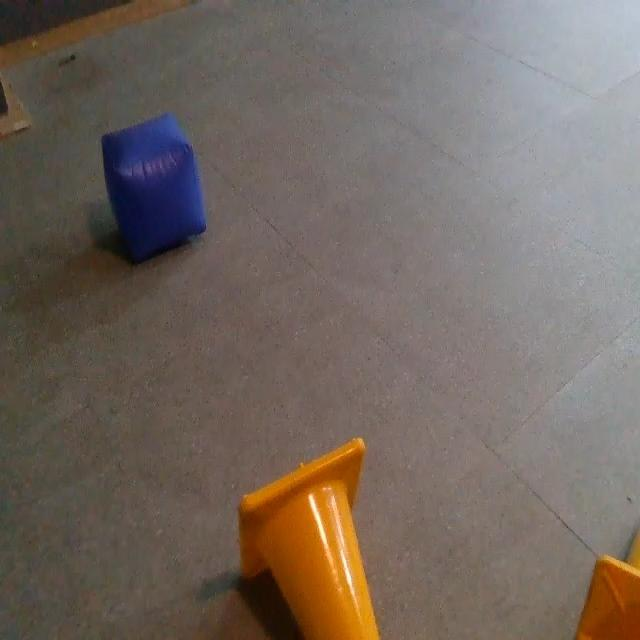cone: (237, 434, 388, 633), (578, 533, 639, 640)
cube: (101, 110, 212, 262)
